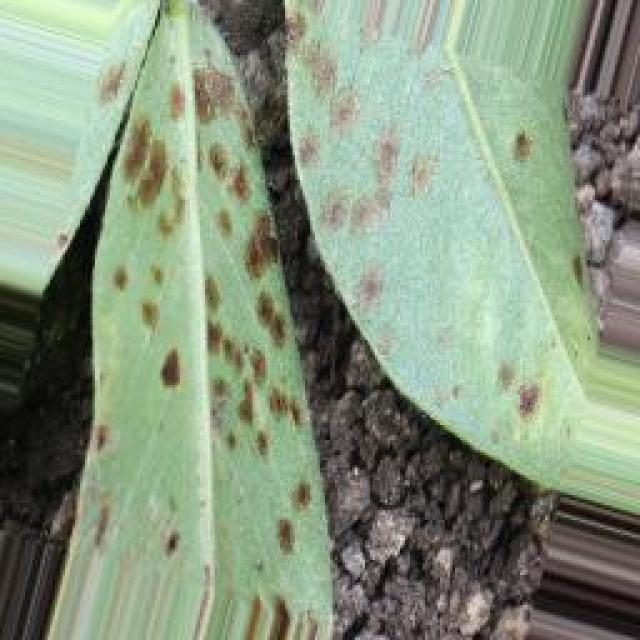Whitefly: (55, 13, 582, 591)
